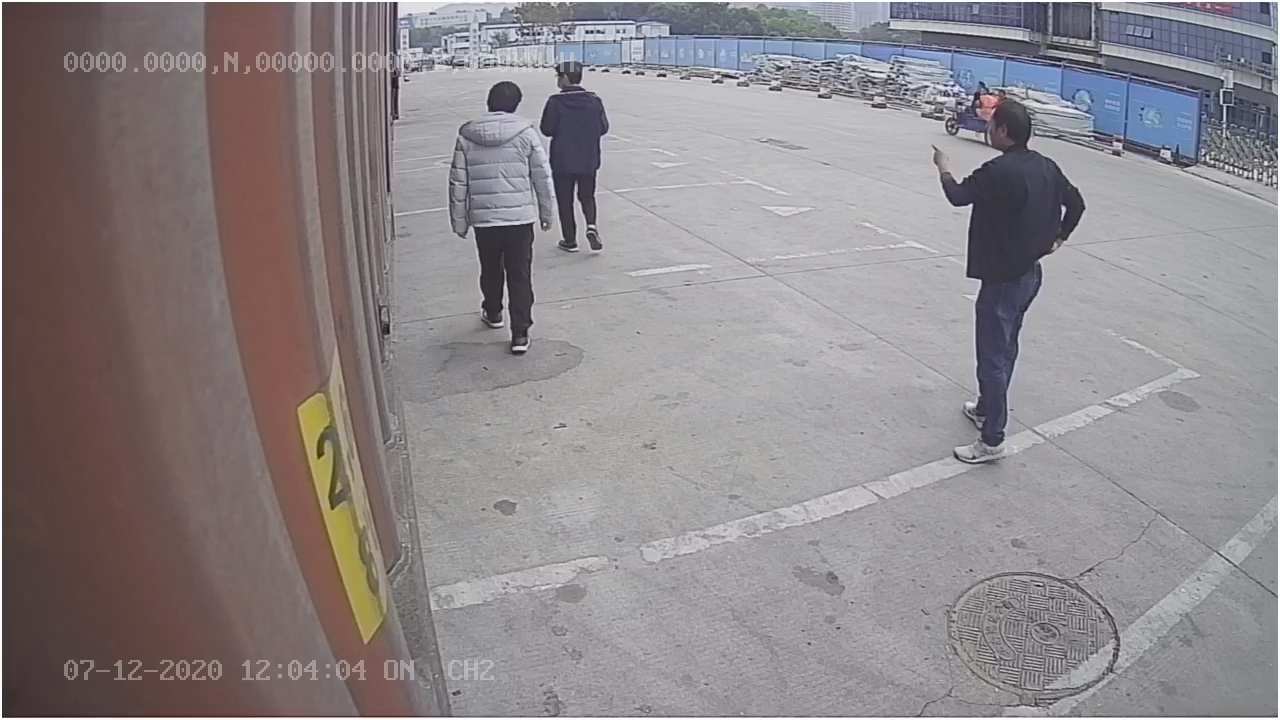person: (925, 101, 1086, 464), (444, 82, 556, 356)
